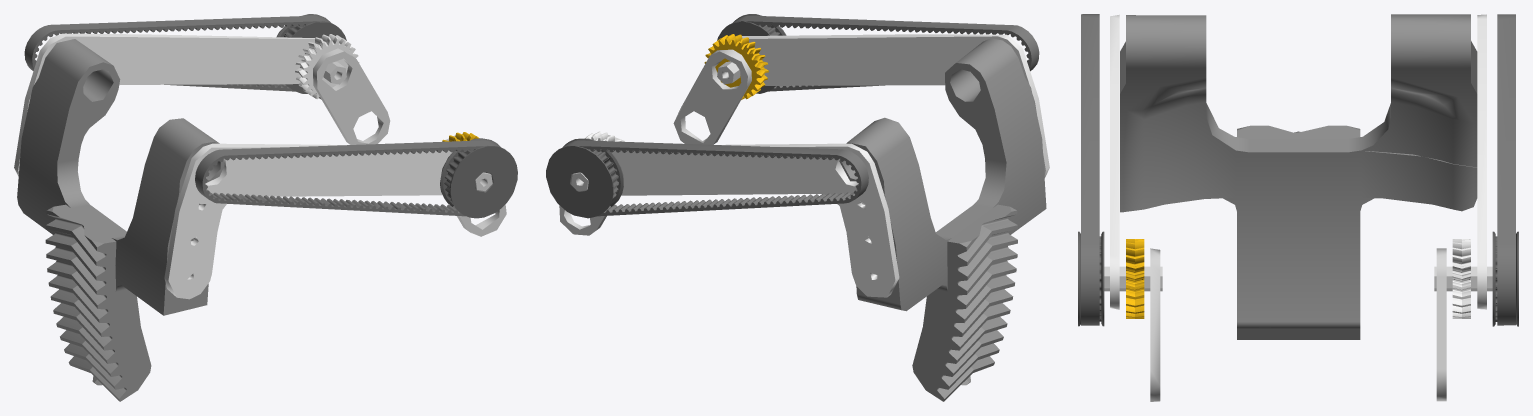
The model's file is hood.glb.
The picture shows the model from 3 angles, left to right: view 1: azimuth 30°, elevation 25°; view 2: azimuth 150°, elevation 25°; view 3: azimuth 270°, elevation 25°; orthographic projection. The views are drawn at different scales.
Parts seen in each view (by area): view 1: hood_3, hood_5, hood_1, hood_4, hood_2, hood_0; view 2: hood_3, hood_5, hood_1, hood_4, hood_2, hood_6; view 3: hood_3, hood_1, hood_5, hood_2, hood_4, hood_0, hood_6.
Part boxes in pixels (bbox=[...]): hood_3: bbox=[17, 39, 224, 401]; hood_5: bbox=[14, 33, 452, 299]; hood_1: bbox=[24, 15, 500, 216]; hood_4: bbox=[276, 14, 517, 218]; hood_2: bbox=[313, 48, 506, 236]; hood_0: bbox=[295, 34, 359, 99]; hood_3: bbox=[839, 38, 1046, 401]; hood_5: bbox=[611, 34, 1049, 297]; hood_1: bbox=[563, 15, 1039, 216]; hood_4: bbox=[546, 14, 786, 218]; hood_2: bbox=[559, 49, 751, 235]; hood_6: bbox=[704, 34, 768, 99]; hood_3: bbox=[1120, 14, 1477, 339]; hood_1: bbox=[1081, 14, 1515, 325]; hood_5: bbox=[1110, 14, 1486, 309]; hood_2: bbox=[1104, 248, 1492, 401]; hood_4: bbox=[1078, 231, 1518, 326]; hood_0: bbox=[1452, 239, 1470, 318]; hood_6: bbox=[1126, 239, 1144, 318].
Size of the model in its own units: 0.172 by 0.1238 by 0.1431.
